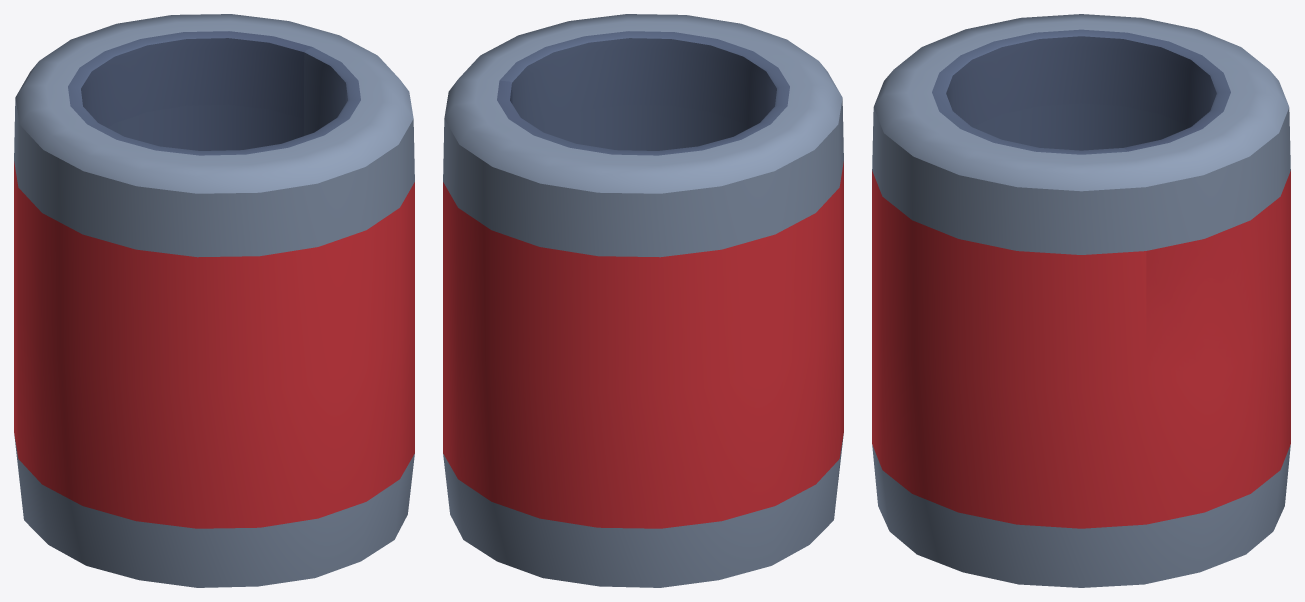
Rendered from Can01.fbx.
3 renders of one model, left to right at view 1: azimuth 30°, elevation 25°; view 2: azimuth 150°, elevation 25°; view 3: azimuth 270°, elevation 25°, orthographic.
Parts seen in each view (by area): view 1: can; view 2: can; view 3: can.
Boxes of the visible parts, x1=… form: can: x1=14, y1=14, x2=414, y2=587; can: x1=443, y1=14, x2=843, y2=587; can: x1=872, y1=14, x2=1290, y2=587.
Size of the model in its own units: 14.9 by 14.27 by 16.76.
